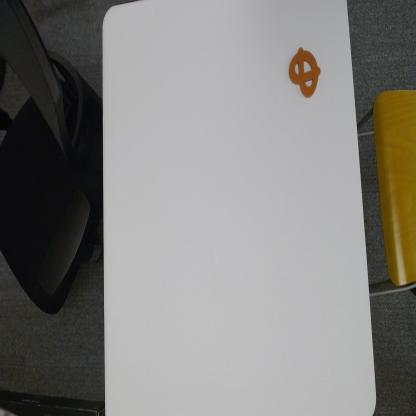Pretzel: (288, 46, 321, 101)
